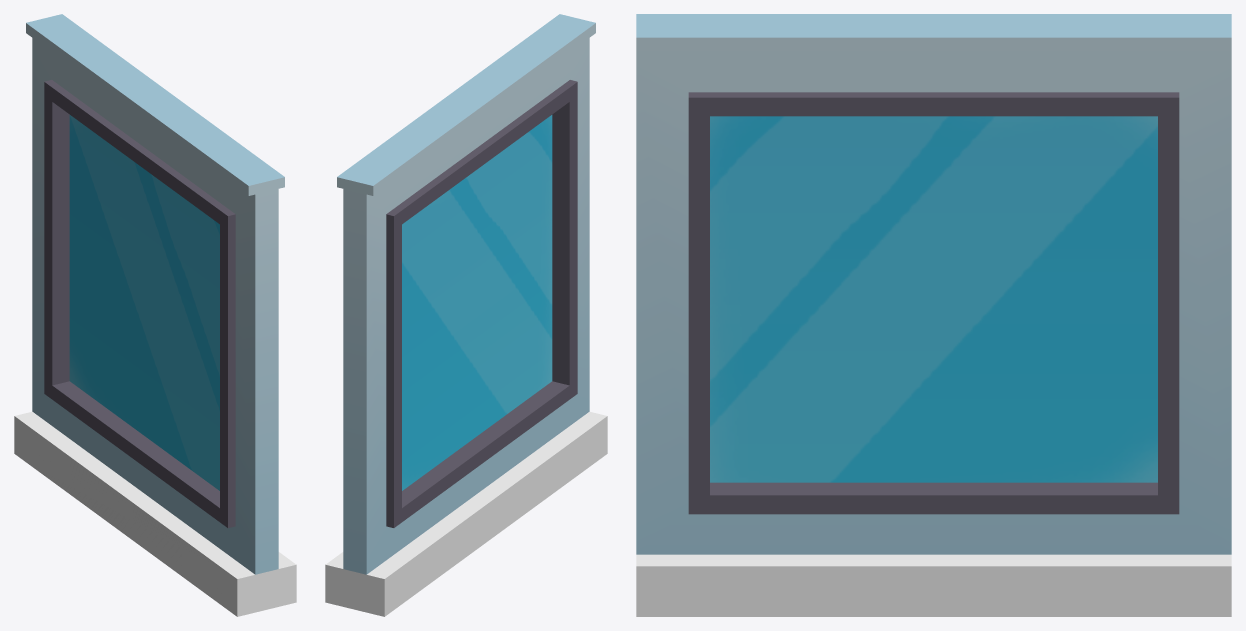
File: 3Wall_Straight_Short.fbx
The picture shows the model from 3 angles, left to right: view 1: azimuth 30°, elevation 25°; view 2: azimuth 150°, elevation 25°; view 3: azimuth 270°, elevation 25°; orthographic projection. The views are drawn at different scales.
Visible parts, largest first — view 1: 3Wall_Straight_Short; view 2: 3Wall_Straight_Short; view 3: 3Wall_Straight_Short.
Part boxes in pixels (x1=…): 3Wall_Straight_Short: x1=14, y1=14, x2=296, y2=616; 3Wall_Straight_Short: x1=325, y1=14, x2=607, y2=616; 3Wall_Straight_Short: x1=636, y1=14, x2=1231, y2=616.
Size of the model in its own units: 30.62 by 212 by 200.
